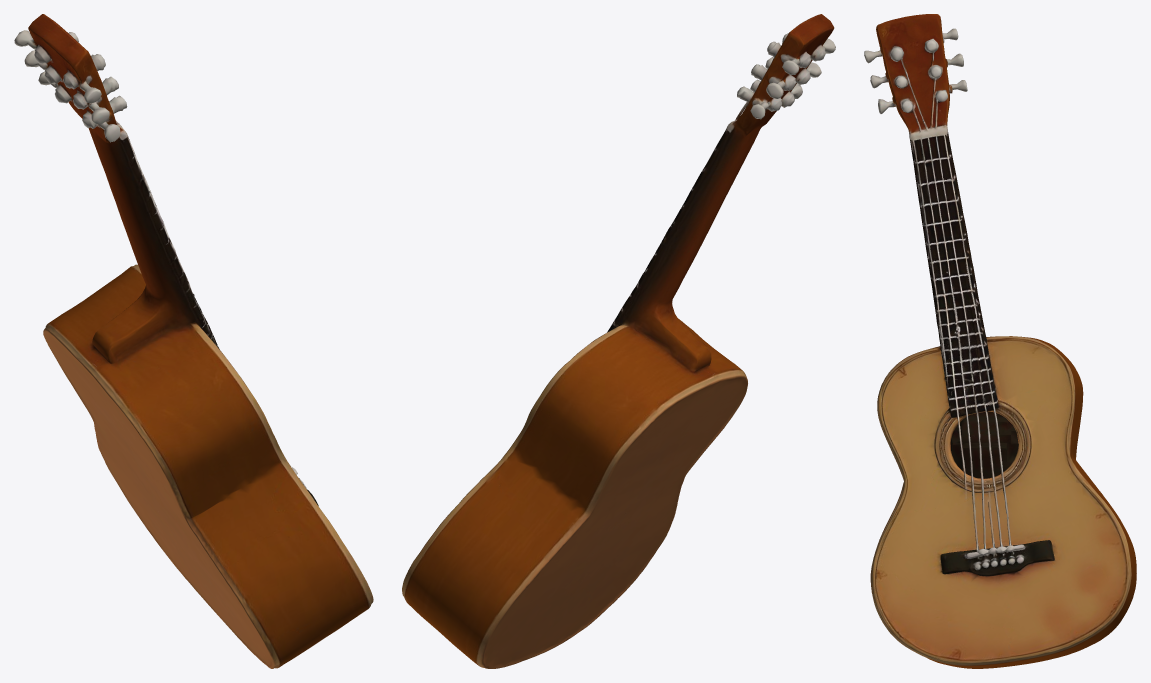
Rendered from guitar.glb.
3 renders of one model, left to right at view 1: azimuth 30°, elevation 25°; view 2: azimuth 150°, elevation 25°; view 3: azimuth 270°, elevation 25°, orthographic. The views are drawn at different scales.
Parts seen in each view (by area): view 1: tripo_node_beef27e1-ee06-4a16-905e-328189bc168b; view 2: tripo_node_beef27e1-ee06-4a16-905e-328189bc168b; view 3: tripo_node_beef27e1-ee06-4a16-905e-328189bc168b.
Boxes of the visible parts, left/top/right/bottom form: tripo_node_beef27e1-ee06-4a16-905e-328189bc168b: left=14, top=14, right=373, bottom=668; tripo_node_beef27e1-ee06-4a16-905e-328189bc168b: left=402, top=14, right=835, bottom=668; tripo_node_beef27e1-ee06-4a16-905e-328189bc168b: left=864, top=14, right=1136, bottom=668.
Bounding box in the file's own units: 0.5061 × 1 × 0.4391.
1 material, 1 textured.
